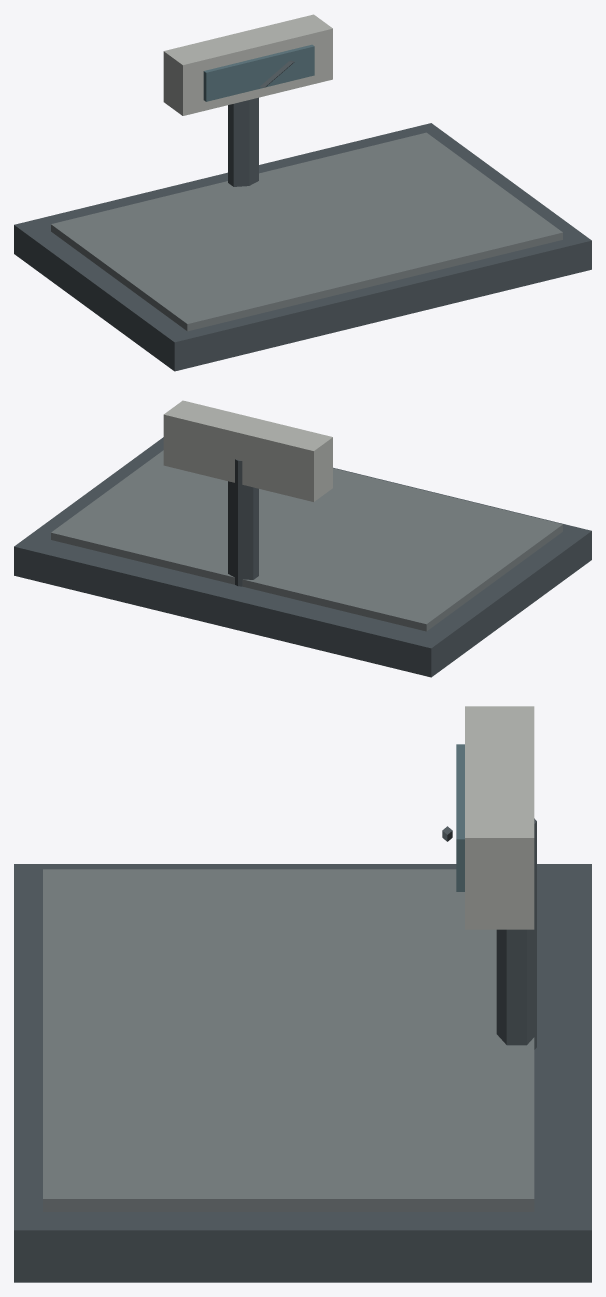
Rendered from weigh_scale.glb.
The picture shows the model from 3 angles, top to bottom: view 1: azimuth 30°, elevation 25°; view 2: azimuth 150°, elevation 25°; view 3: azimuth 270°, elevation 25°; orthographic projection. The views are drawn at different scales.
Visible parts, largest first — view 1: weigh_scale; view 2: weigh_scale; view 3: weigh_scale.
Part boxes in pixels (x1,y1,x2,y2): weigh_scale: (14,14,591,371); weigh_scale: (14,400,591,677); weigh_scale: (14,706,591,1282).
Bounding box in the file's own units: 2.88 × 1.2 × 1.92.
